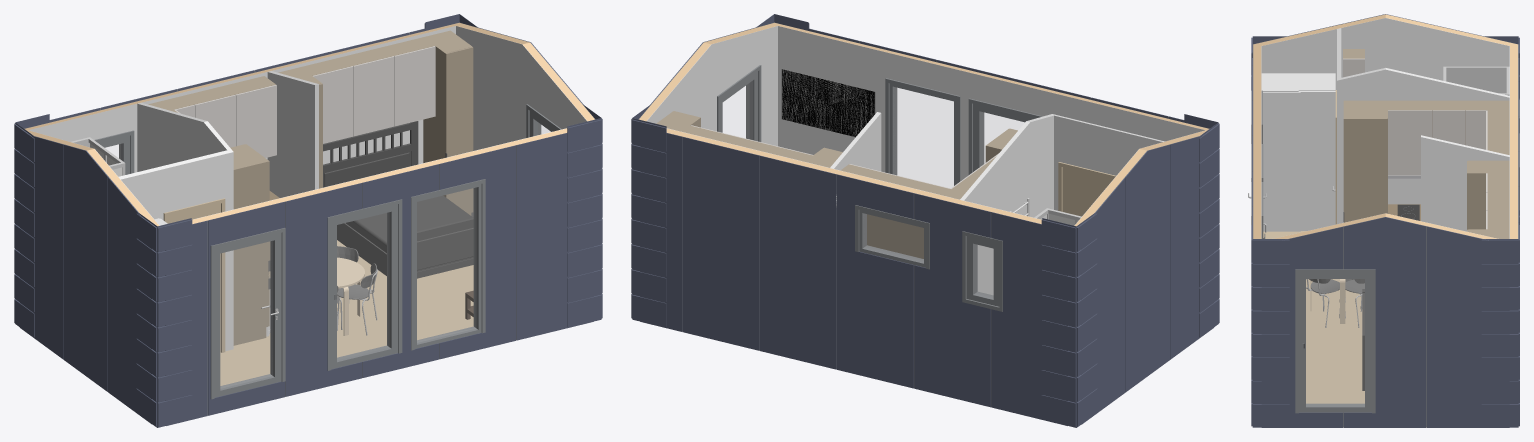
File: Airijaa.fbx
3 views of the same model, side by side, from view 1: azimuth 30°, elevation 25°; view 2: azimuth 150°, elevation 25°; view 3: azimuth 270°, elevation 25° (orthographic). The views are drawn at different scales.
Visible parts, largest first — view 1: IfcBuildingElementProxy/Kampai Kvadratiniai - line based:Mu. (×4), IfcFurnishingElement/Sorento G60(100) (Pakabinama):Sorento . (×4), IfcWindow/Langai (Akrusta):1000x2100x120 (kairinis):2750757, IfcDoor/Durys išorinės:1000x2100x120 (kairinės):2439432, IfcWindow/Langai (Akrusta):1000x2100x120:2761594, IfcPlate/System Panel:Sandwich užbaigimas Multisplit:3006171, IfcPlate/System Panel:Sandwich užbaigimas Multisplit:3006206, IfcPlate/System Panel:Sandwich užbaigimas Multisplit:3006178, IfcFurnishingElement/Lova (BED) IKEA:Full Size - Black/Brown, IfcPlate/System Panel:Sandwich užbaigimas Multisplit:3006174, IfcWall/Part:2397151, IfcSlab/Part:2319985 (+22 smaller); view 2: IfcBuildingElementProxy/Kampai Kvadratiniai - line based:Mu. (×3), IfcPlate/System Panel:Sandwich užbaigimas Multisplit:3006146, IfcPlate/System Panel:Sandwich užbaigimas Multisplit:3006144, IfcWall/Part:2319976, IfcPlate/System Panel:Sandwich užbaigimas Multisplit:3006142, IfcPlate/System Panel:Sandwich užbaigimas Multisplit:3006140, IfcPlate/System Panel:Sandwich užbaigimas Multisplit:3006206, IfcPlate/System Panel:Sandwich užbaigimas Multisplit:3006137, IfcBuildingElementProxy/Kampai Kvadratiniai - line based:Mu, IfcWindow/Langai (Akrusta):1000x2100x120:2761594, IfcWall/Part:2397151, IfcWallStandardCase/Basic Wall:Sandwich - vidines sienos 60m (+17 smaller); view 3: IfcPlate/System Panel:Sandwich užbaigimas Multisplit:3006122, IfcWindow/Langai (Akrusta):1000x2100x120 (kairinis):3004067, IfcFurnishingElement/Ikea spinta:900 x 600 x 2100mm 2:276165, IfcPlate/System Panel:Sandwich užbaigimas Multisplit:3006119, IfcWall/Part:2755461, IfcBuildingElementProxy/Kampai Kvadratiniai - line based:Mu. (×2), IfcBuildingElementProxy/Kampai Kvadratiniai - line based:Mul, IfcFurnishingElement/Sorento D60ZLN (Su šaldytuvu)1:Sorento  (×2), IfcSlab/Part:2319985, IfcWallStandardCase/Basic Wall:Sandwich - vidines sienos 60m, IfcFurnishingElement/Sorento G60(100) (Pakabinama):Sorento G (×3), IfcWallStandardCase/Basic Wall:Sandwich - vidines sienos 60 (+16 smaller).
Part boxes in pixels (left/top/right/bottom): IfcBuildingElementProxy/Kampai Kvadratiniai - line based:Mu. (×4): left=14, top=118, right=602, bottom=427; IfcFurnishingElement/Sorento G60(100) (Pakabinama):Sorento . (×4): left=183, top=37, right=435, bottom=157; IfcWindow/Langai (Akrusta):1000x2100x120 (kairinis):2750757: left=327, top=199, right=402, bottom=370; IfcDoor/Durys išorinės:1000x2100x120 (kairinės):2439432: left=210, top=228, right=285, bottom=399; IfcWindow/Langai (Akrusta):1000x2100x120:2761594: left=411, top=179, right=485, bottom=350; IfcPlate/System Panel:Sandwich užbaigimas Multisplit:3006171: left=516, top=133, right=593, bottom=340; IfcPlate/System Panel:Sandwich užbaigimas Multisplit:3006206: left=63, top=144, right=107, bottom=391; IfcPlate/System Panel:Sandwich užbaigimas Multisplit:3006178: left=285, top=183, right=361, bottom=396; IfcFurnishingElement/Lova (BED) IKEA:Full Size - Black/Brown: left=323, top=121, right=473, bottom=278; IfcPlate/System Panel:Sandwich užbaigimas Multisplit:3006174: left=439, top=145, right=516, bottom=359; IfcWall/Part:2397151: left=456, top=26, right=586, bottom=217; IfcSlab/Part:2319985: left=220, top=240, right=473, bottom=385; IfcBuildingElementProxy/Kampai Kvadratiniai - line based:Mu. (×3): left=1041, top=122, right=1219, bottom=427; IfcPlate/System Panel:Sandwich užbaigimas Multisplit:3006146: left=682, top=137, right=759, bottom=350; IfcPlate/System Panel:Sandwich užbaigimas Multisplit:3006144: left=760, top=155, right=836, bottom=369; IfcWall/Part:2319976: left=778, top=26, right=1204, bottom=180; IfcPlate/System Panel:Sandwich užbaigimas Multisplit:3006142: left=837, top=174, right=913, bottom=388; IfcPlate/System Panel:Sandwich užbaigimas Multisplit:3006140: left=914, top=193, right=990, bottom=407; IfcPlate/System Panel:Sandwich užbaigimas Multisplit:3006206: left=1125, top=144, right=1169, bottom=392; IfcPlate/System Panel:Sandwich užbaigimas Multisplit:3006137: left=991, top=212, right=1068, bottom=425; IfcBuildingElementProxy/Kampai Kvadratiniai - line based:Mu: left=631, top=118, right=666, bottom=326; IfcWindow/Langai (Akrusta):1000x2100x120:2761594: left=885, top=78, right=960, bottom=187; IfcWall/Part:2397151: left=647, top=26, right=777, bottom=146; IfcWallStandardCase/Basic Wall:Sandwich - vidines sienos 60m: left=960, top=114, right=1055, bottom=295; IfcPlate/System Panel:Sandwich užbaigimas Multisplit:3006122: left=1343, top=217, right=1426, bottom=427; IfcWindow/Langai (Akrusta):1000x2100x120 (kairinis):3004067: left=1295, top=269, right=1375, bottom=413; IfcFurnishingElement/Ikea spinta:900 x 600 x 2100mm 2:276165: left=1261, top=73, right=1335, bottom=231; IfcPlate/System Panel:Sandwich užbaigimas Multisplit:3006119: left=1427, top=226, right=1509, bottom=427; IfcWall/Part:2755461: left=1261, top=18, right=1509, bottom=89; IfcBuildingElementProxy/Kampai Kvadratiniai - line based:Mu. (×2): left=1251, top=224, right=1289, bottom=427; IfcBuildingElementProxy/Kampai Kvadratiniai - line based:Mul: left=1481, top=239, right=1518, bottom=427; IfcFurnishingElement/Sorento D60ZLN (Su šaldytuvu)1:Sorento  (×2): left=1343, top=100, right=1509, bottom=229; IfcSlab/Part:2319985: left=1263, top=231, right=1364, bottom=403; IfcWallStandardCase/Basic Wall:Sandwich - vidines sienos 60m: left=1337, top=68, right=1509, bottom=224; IfcFurnishingElement/Sorento G60(100) (Pakabinama):Sorento G (×3): left=1388, top=100, right=1487, bottom=175; IfcWallStandardCase/Basic Wall:Sandwich - vidines sienos 60: left=1421, top=135, right=1509, bottom=231.
Size of the model in its own units: 654 by 315 by 369.
